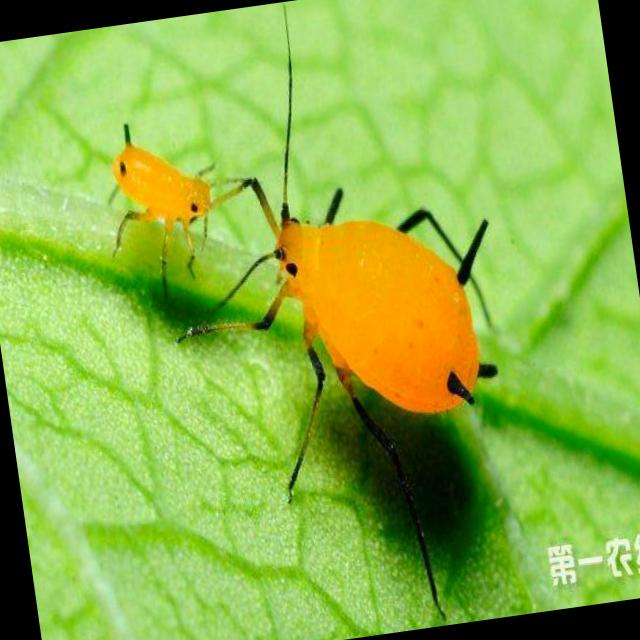aphid: (248, 152, 566, 598), (66, 92, 277, 310)
